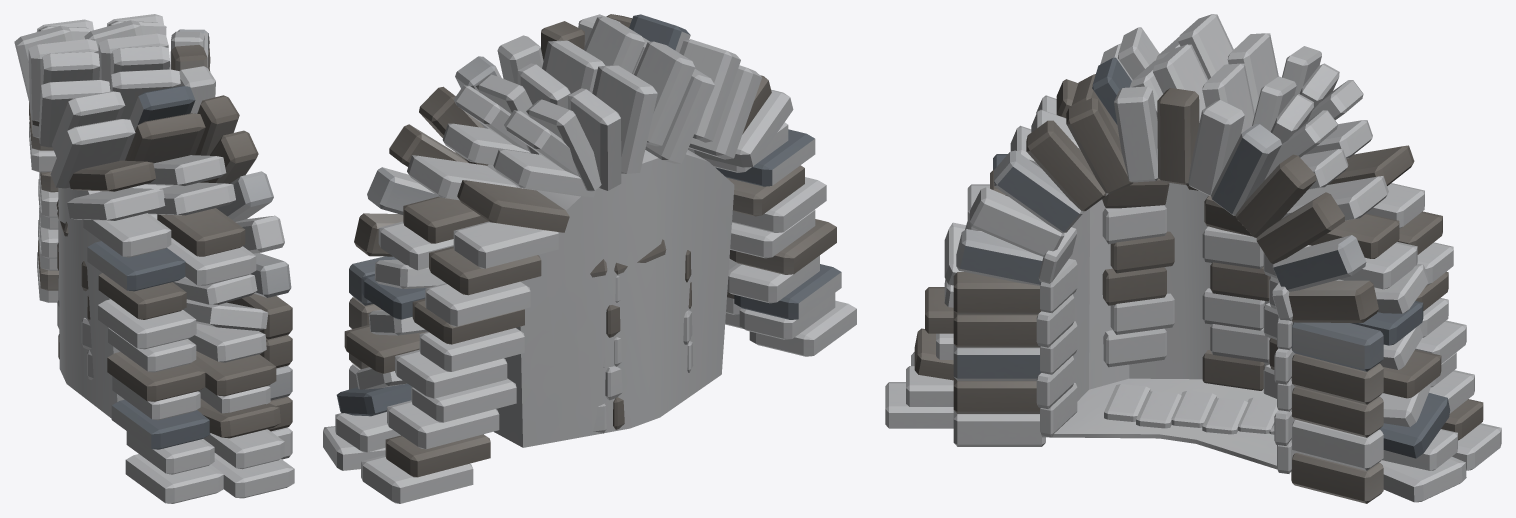
Rendered from monumentoDerecha.fbx.
3 views of the same model, side by side, from view 1: azimuth 30°, elevation 25°; view 2: azimuth 150°, elevation 25°; view 3: azimuth 270°, elevation 25° (orthographic). The views are drawn at different scales.
Parts seen in each view (by area): view 1: group70; view 2: group70; view 3: group70.
Boxes of the visible parts, x1,y1,x2,y2 form: group70: (14, 14, 294, 503); group70: (323, 14, 856, 503); group70: (885, 14, 1501, 503).
Size of the model in its own units: 842 by 1073 by 1615.
